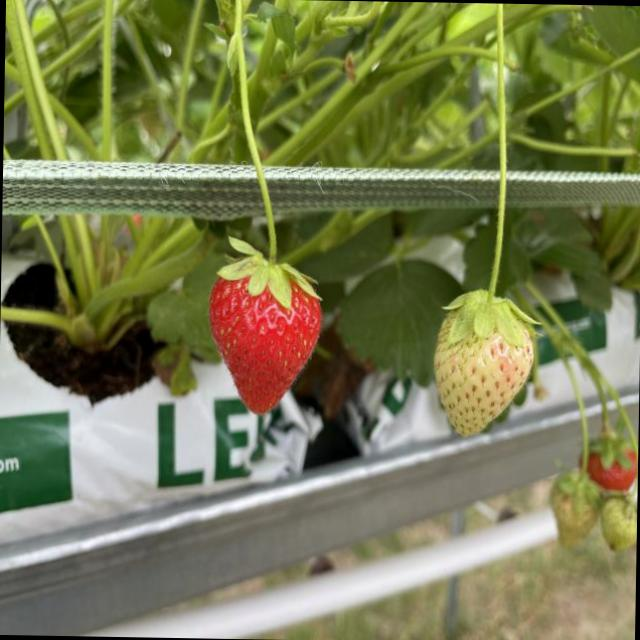stem: (216, 0, 319, 310), (445, 3, 536, 347)
strawberryNR: (434, 312, 533, 435)
strawberryR: (209, 277, 320, 413)
